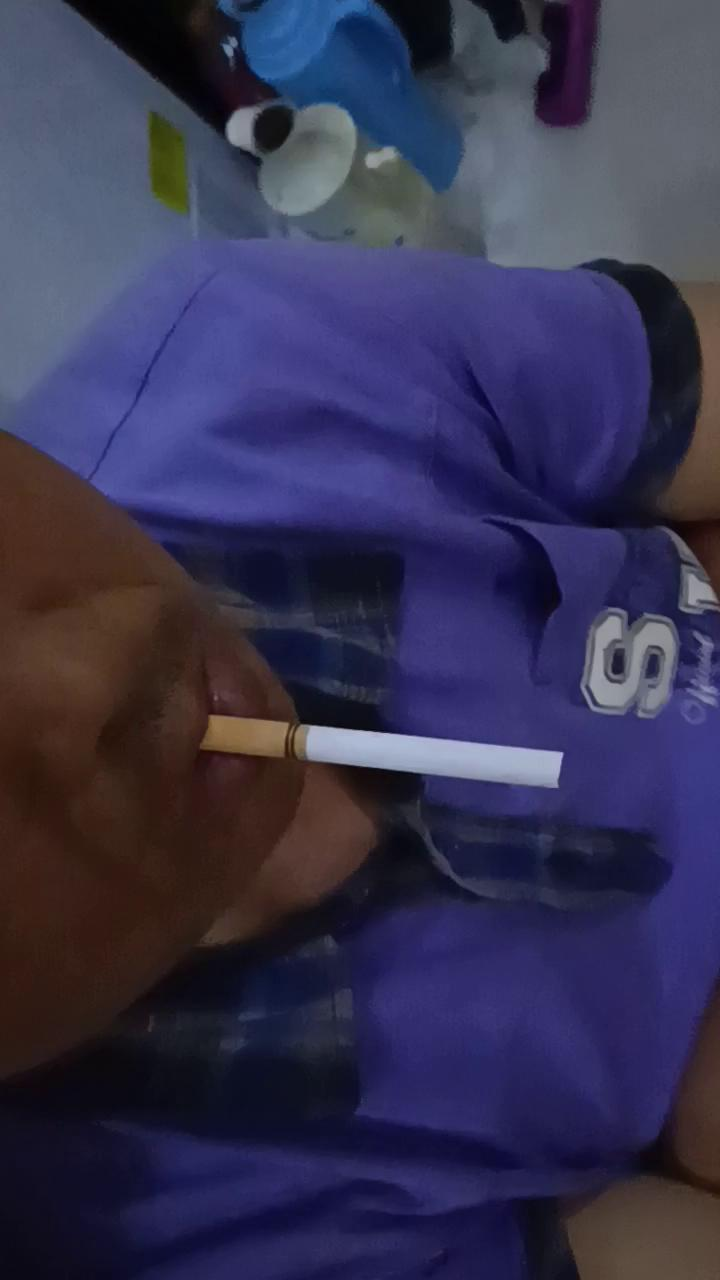smoke: (202, 718, 571, 792)
